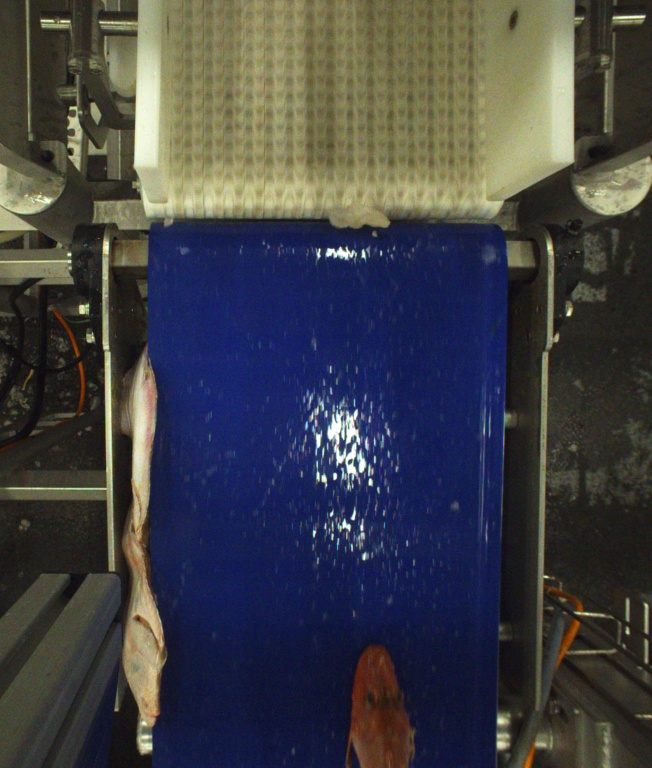GUU: (345, 644, 419, 768)
